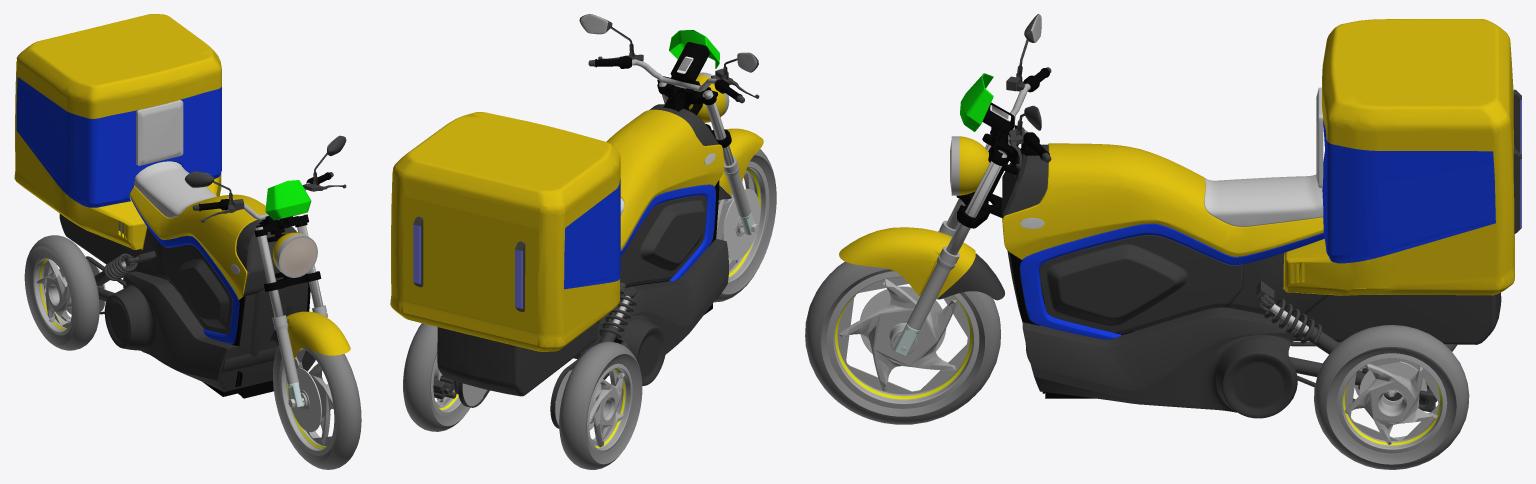
The picture shows the model from 3 angles, left to right: view 1: azimuth 30°, elevation 25°; view 2: azimuth 150°, elevation 25°; view 3: azimuth 270°, elevation 25°; orthographic projection. The views are drawn at different scales.
Parts seen in each view (by area): view 1: polySurface951, polySurface948, polySurface1350, polySurface966, polySurface963, polySurface964, polySurface1343, pCube1, polySurface876, polySurface1354, polySurface985, polySurface990 (+15 smaller); view 2: polySurface951, polySurface1350, polySurface948, polySurface963, polySurface1343, polySurface984, polySurface990, polySurface964, polySurface1008, polySurface1015, polySurface1354, polySurface992 (+18 smaller); view 3: polySurface951, polySurface875, polySurface1350, polySurface1342, polySurface984, polySurface964, polySurface876, polySurface1354, polySurface988, polySurface990, polySurface1009, polySurface989 (+13 smaller).
Part boxes in pixels (<box>): polySurface951: <box>14,14,249,343</box>; polySurface948: <box>104,271,239,392</box>; polySurface1350: <box>129,185,287,299</box>; polySurface966: <box>220,282,314,391</box>; polySurface963: <box>24,235,99,350</box>; polySurface964: <box>273,345,361,469</box>; polySurface1343: <box>162,244,232,334</box>; pCube1: <box>136,100,183,165</box>; polySurface876: <box>134,161,216,217</box>; polySurface1354: <box>286,311,350,358</box>; polySurface985: <box>273,232,317,277</box>; polySurface990: <box>279,347,336,455</box>; polySurface951: <box>390,112,715,396</box>; polySurface1350: <box>606,109,724,250</box>; polySurface948: <box>599,239,728,385</box>; polySurface963: <box>559,341,642,469</box>; polySurface1343: <box>620,195,706,287</box>; polySurface984: <box>403,323,470,431</box>; polySurface990: <box>721,161,769,286</box>; polySurface964: <box>714,149,776,302</box>; polySurface1008: <box>587,363,632,453</box>; polySurface1015: <box>722,188,759,260</box>; polySurface1354: <box>719,128,763,196</box>; polySurface992: <box>589,372,624,447</box>; polySurface951: <box>1020,19,1514,344</box>; polySurface875: <box>1022,307,1297,418</box>; polySurface1350: <box>1002,143,1323,259</box>; polySurface1342: <box>1039,235,1243,333</box>; polySurface984: <box>1314,325,1469,469</box>; polySurface964: <box>805,261,1000,424</box>; polySurface876: <box>1204,174,1323,226</box>; polySurface1354: <box>839,227,975,299</box>; polySurface988: <box>838,279,957,391</box>; polySurface990: <box>827,271,979,408</box>; polySurface1009: <box>1337,353,1447,453</box>; polySurface989: <box>1344,363,1437,444</box>.
Size of the model in its own units: 75.68 by 119 by 215.
